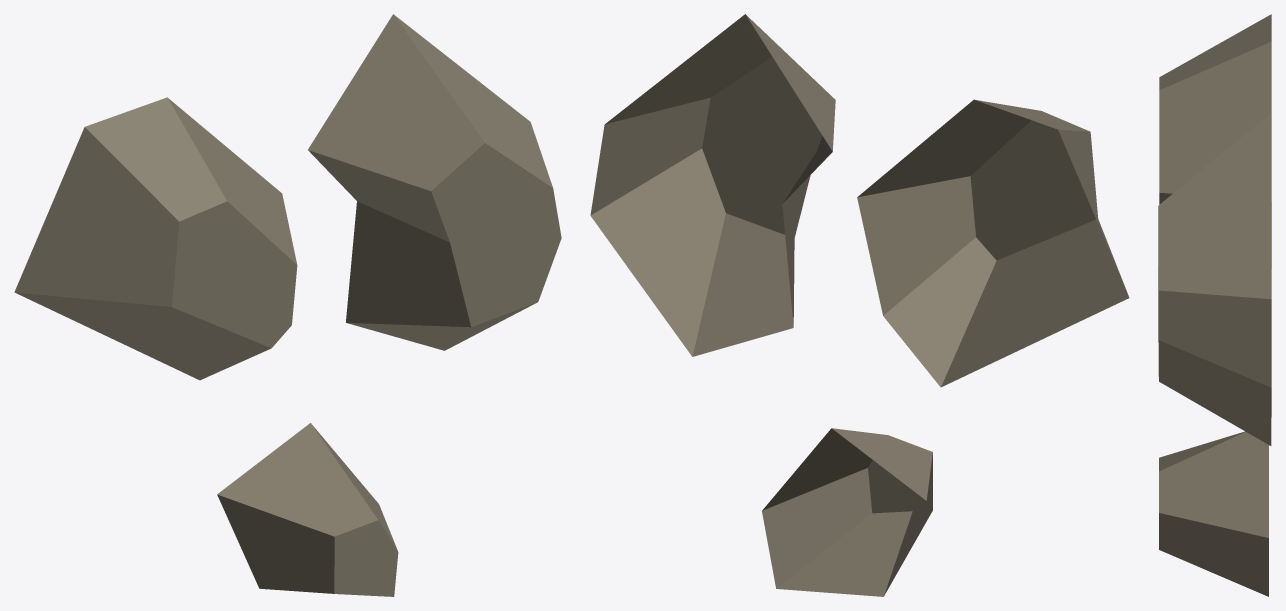
The model's file is Cailloux03.fbx.
3 renders of one model, left to right at view 1: azimuth 30°, elevation 25°; view 2: azimuth 150°, elevation 25°; view 3: azimuth 270°, elevation 25°, orthographic. The views are drawn at different scales.
Parts seen in each view (by area): view 1: Cailloux03; view 2: Cailloux03; view 3: Cailloux03.
Boxes of the visible parts, left/top/right/bottom form: Cailloux03: left=14, top=14, right=561, bottom=596; Cailloux03: left=590, top=14, right=1129, bottom=596; Cailloux03: left=1158, top=14, right=1271, bottom=596.
Bounding box in the file's own units: 98.78 × 99.54 × 20.65.
